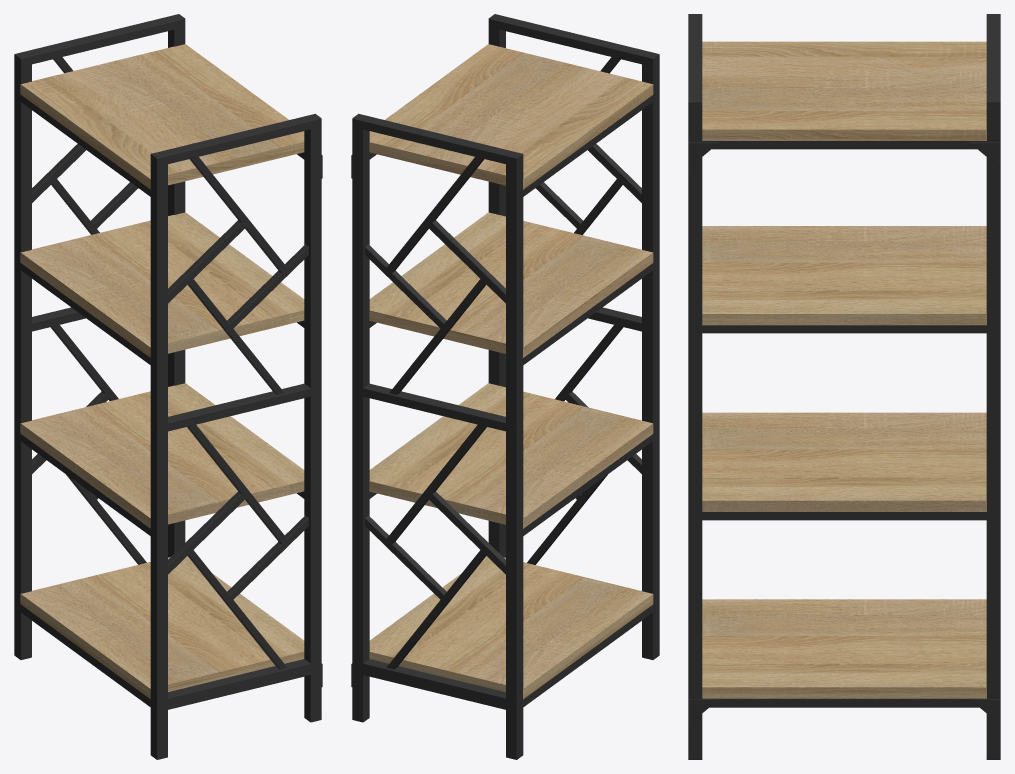
3 renders of one model, left to right at view 1: azimuth 30°, elevation 25°; view 2: azimuth 150°, elevation 25°; view 3: azimuth 270°, elevation 25°, orthographic. The views are drawn at different scales.
Parts seen in each view (by area): view 1: Box015, Object081.001, Box012, Box013.001, Box014.001, Object090, Object080.001, Object087, Object088, Object068.001, Object093, Object091 (+1 smaller); view 2: Box015, Object090, Box012, Box013.001, Box014.001, Object081.001, Object093, Object092, Object091, Object068.001, Object080.001, Object088 (+1 smaller); view 3: Box014.001, Box015, Box013.001, Box012, Object094, Object081.001, Object090, Object080.001, Object093.
Part boxes in pixels (x1,y1,x2,y2): Box015: [20, 44, 304, 189]; Object081.001: [150, 113, 321, 759]; Box012: [20, 556, 304, 698]; Box013.001: [20, 383, 304, 528]; Box014.001: [20, 212, 304, 357]; Object090: [14, 14, 185, 659]; Object080.001: [151, 116, 321, 712]; Object087: [168, 424, 308, 669]; Object088: [168, 157, 308, 394]; Object068.001: [20, 95, 150, 706]; Object093: [14, 16, 174, 611]; Object091: [32, 57, 138, 234]; Box015: [369, 44, 653, 189]; Object090: [352, 113, 523, 759]; Box012: [369, 556, 653, 699]; Box013.001: [369, 383, 653, 528]; Box014.001: [369, 212, 653, 357]; Object081.001: [488, 14, 659, 659]; Object093: [352, 116, 522, 712]; Object092: [365, 424, 505, 669]; Object091: [365, 157, 505, 394]; Object068.001: [523, 95, 653, 706]; Object080.001: [499, 16, 659, 611]; Object088: [535, 57, 641, 234]; Box014.001: [702, 226, 986, 325]; Box015: [702, 41, 986, 140]; Box013.001: [702, 412, 986, 511]; Box012: [702, 599, 986, 698]; Object094: [702, 141, 986, 707]; Object081.001: [688, 14, 702, 759]; Object090: [986, 14, 1000, 759]; Object080.001: [688, 19, 702, 95]; Object093: [986, 19, 1000, 95].
Size of the model in its own units: 40.2 by 139 by 60.01.
Materials: 2 (1 with a texture image).
